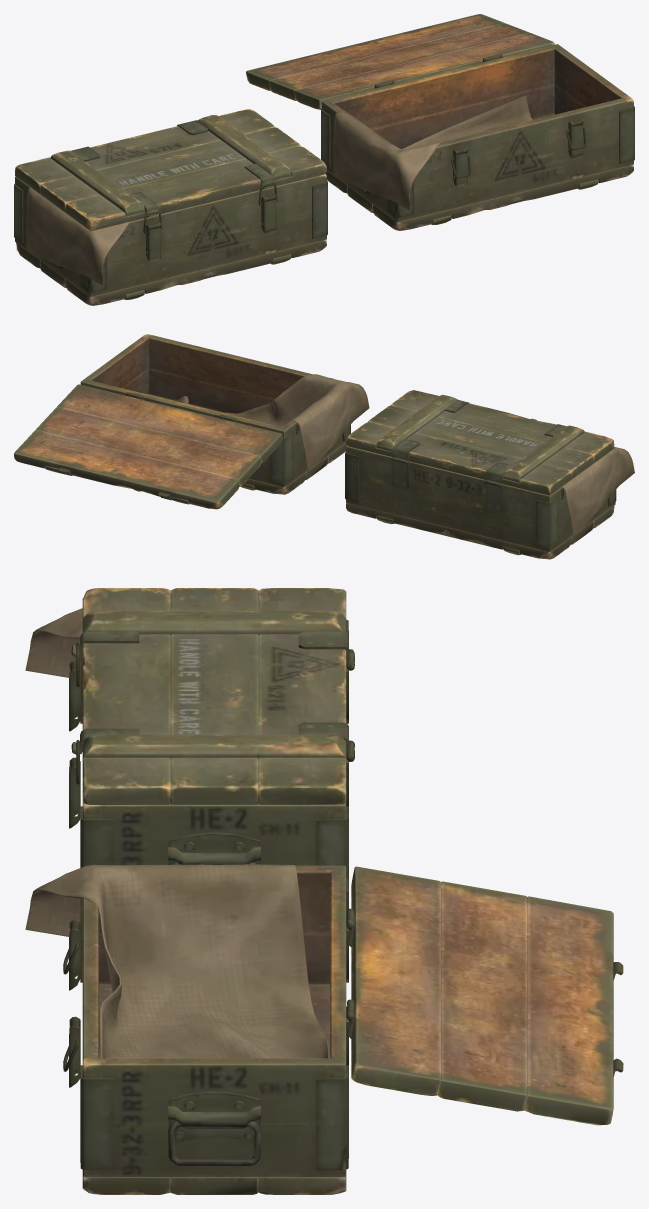
Rendered from military_crate.glb.
3 renders of one model, top to bottom at view 1: azimuth 30°, elevation 25°; view 2: azimuth 150°, elevation 25°; view 3: azimuth 270°, elevation 25°, orthographic. The views are drawn at different scales.
Parts seen in each view (by area): view 1: old_military_crate_lid_a; view 2: old_military_crate_lid_a; view 3: old_military_crate_lid_a.
Boxes of the visible parts, x1,y1,x2,y2 form: old_military_crate_lid_a: [14, 14, 634, 305]; old_military_crate_lid_a: [14, 334, 634, 559]; old_military_crate_lid_a: [25, 588, 623, 1194].
Size of the model in its own units: 1.82 by 0.3009 by 0.9756.
Materials: 1 (1 with a texture image).
